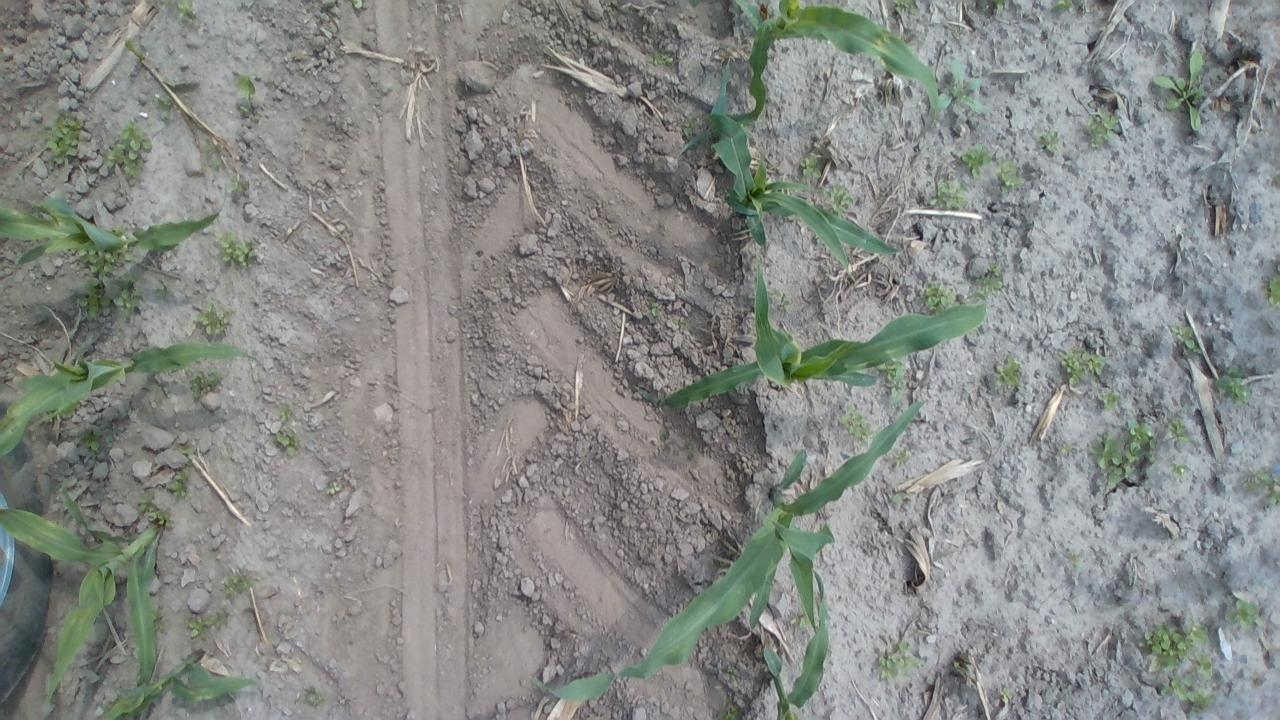Maize: (530, 395, 928, 704), (636, 257, 994, 408), (709, 53, 906, 282), (0, 487, 167, 720), (0, 340, 270, 464), (712, 0, 943, 142), (0, 179, 228, 271), (81, 652, 266, 720), (764, 568, 832, 720)
Weeds: (1152, 43, 1214, 131), (1091, 422, 1159, 492), (1142, 618, 1214, 684), (98, 122, 154, 182), (938, 56, 984, 117), (42, 112, 86, 168), (1156, 675, 1216, 714), (875, 640, 923, 684), (1058, 344, 1108, 386), (214, 229, 262, 270), (1084, 104, 1124, 151), (1214, 362, 1254, 406), (836, 406, 877, 446), (927, 178, 974, 212), (1225, 595, 1266, 633), (956, 142, 994, 180), (193, 301, 231, 339), (1238, 464, 1276, 502), (968, 264, 1006, 302), (919, 278, 960, 312), (76, 248, 122, 278), (76, 282, 112, 320), (112, 278, 146, 318), (134, 493, 174, 526), (186, 610, 229, 640), (879, 358, 907, 402), (1170, 321, 1204, 357), (994, 158, 1025, 197), (824, 182, 858, 217), (164, 464, 196, 501), (188, 368, 224, 400), (221, 572, 261, 600), (994, 354, 1024, 391), (1166, 414, 1193, 446), (235, 72, 261, 104), (296, 685, 330, 709), (271, 427, 300, 455), (646, 48, 678, 71), (82, 428, 108, 455), (1034, 129, 1062, 154), (170, 1, 200, 24), (890, 443, 914, 470), (796, 154, 822, 178), (1097, 388, 1122, 412), (1262, 274, 1278, 308), (226, 174, 250, 196), (151, 93, 176, 114), (274, 403, 296, 425), (1046, 0, 1078, 15), (645, 295, 663, 321), (1170, 460, 1192, 481), (152, 282, 176, 301), (680, 116, 699, 140), (888, 485, 908, 506), (716, 702, 742, 718), (790, 610, 810, 630), (325, 479, 344, 498), (998, 684, 1017, 702), (1056, 442, 1076, 459), (180, 443, 200, 460), (990, 0, 1014, 12), (350, 1, 367, 10)
